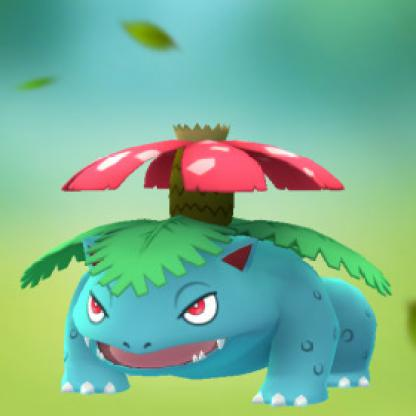Venusaur: (1, 99, 416, 416)
